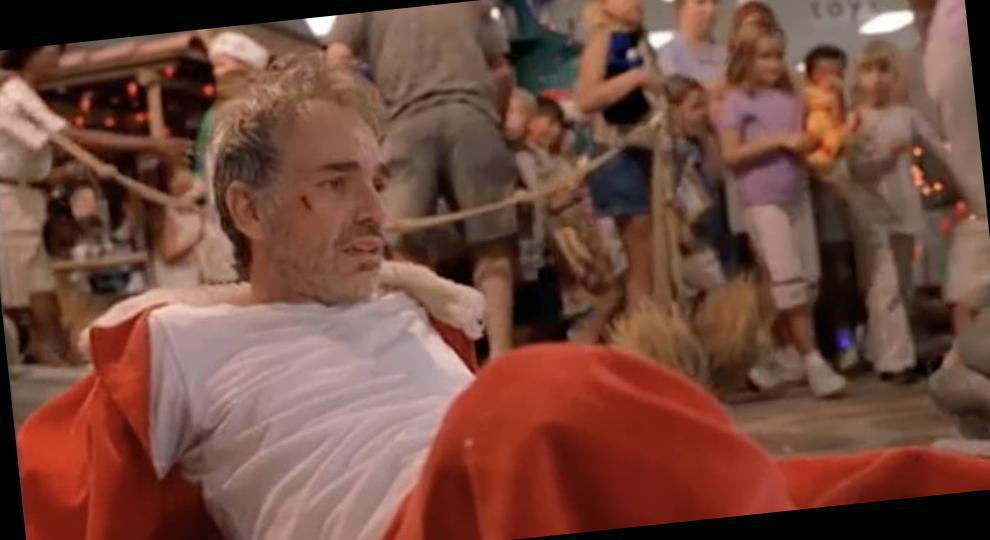Drunk: (296, 111, 389, 297)
